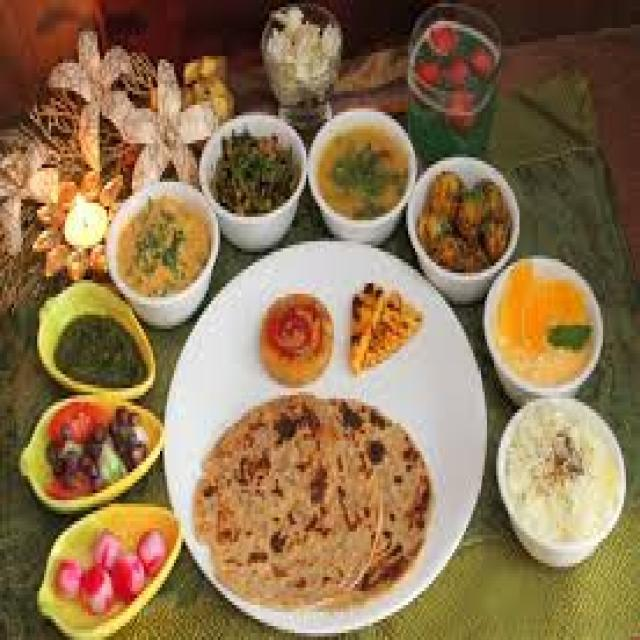pickle: (250, 291, 341, 383)
roti: (196, 385, 433, 622)
sambar-rasam: (41, 496, 174, 628), (485, 263, 598, 393)
sweet: (503, 407, 620, 561), (39, 495, 174, 623), (486, 261, 599, 388), (29, 405, 156, 508)
veg-fry: (113, 176, 215, 311), (414, 156, 519, 278), (200, 120, 304, 229)
